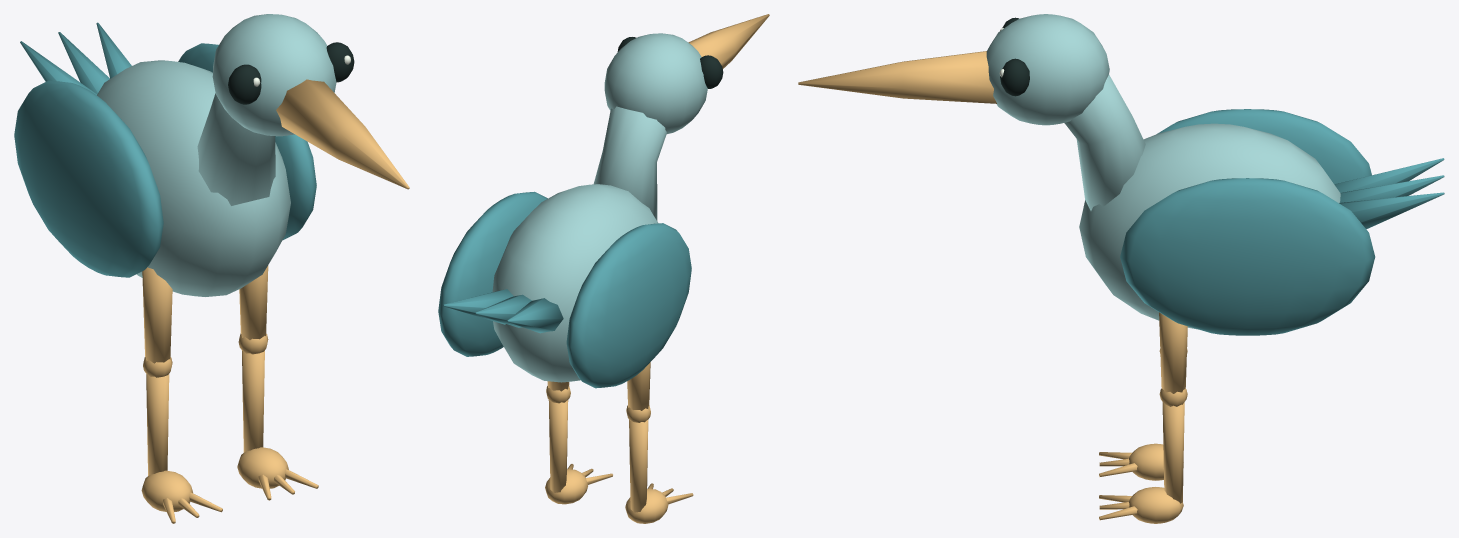
File: reedbeak.glb
3 renders of one model, left to right at view 1: azimuth 30°, elevation 25°; view 2: azimuth 150°, elevation 25°; view 3: azimuth 270°, elevation 25°, orthographic. The views are drawn at different scales.
Parts seen in each view (by area): view 1: BirdBody, FoldedWing, BirdHead, LongBill, LongNeck, FoldedWing.001, UpperLeg.004, LowerLeg.005, LowerLeg.004, UpperLeg.005, SpeciesFoot.004, SpeciesFoot.005 (+5 smaller); view 2: BirdBody, FoldedWing, BirdHead, FoldedWing.001, LongNeck, LongBill, LowerLeg.004, LowerLeg.005, TailFeather, SpeciesFoot.005, SpeciesFoot.004, TailFeather.002 (+3 smaller); view 3: FoldedWing.001, BirdBody, BirdHead, LongBill, LongNeck, FoldedWing, LowerLeg.005, UpperLeg.005, TailFeather.002, SpeciesFoot.005, TailFeather, TailFeather.001 (+2 smaller).
Boxes of the visible parts, box(x1,y1,x2,y2) form: BirdBody: box(97, 60, 290, 296); FoldedWing: box(14, 80, 163, 277); BirdHead: box(212, 14, 336, 136); LongBill: box(276, 79, 409, 189); LongNeck: box(197, 93, 275, 205); FoldedWing.001: box(178, 43, 316, 239); UpperLeg.004: box(142, 267, 172, 363); LowerLeg.005: box(242, 350, 264, 452); LowerLeg.004: box(146, 374, 169, 475); UpperLeg.005: box(239, 265, 268, 339); SpeciesFoot.004: box(141, 470, 192, 511); SpeciesFoot.005: box(237, 447, 288, 488); BirdBody: box(492, 184, 657, 382); FoldedWing: box(566, 223, 691, 388); BirdHead: box(604, 33, 707, 133); FoldedWing.001: box(438, 191, 547, 356); LongNeck: box(593, 106, 666, 220); LongBill: box(688, 14, 769, 68); LowerLeg.004: box(629, 420, 648, 512); LowerLeg.005: box(548, 400, 568, 492); TailFeather: box(507, 298, 563, 333); SpeciesFoot.005: box(545, 469, 587, 504); SpeciesFoot.004: box(625, 488, 668, 523); TailFeather.002: box(443, 289, 513, 324); FoldedWing.001: box(1120, 178, 1375, 335); BirdBody: box(1079, 123, 1340, 329); BirdHead: box(986, 14, 1109, 125); LongBill: box(798, 51, 996, 103); LongNeck: box(1064, 74, 1145, 210); FoldedWing: box(1157, 109, 1371, 184); LowerLeg.005: box(1162, 402, 1184, 503); UpperLeg.005: box(1159, 312, 1187, 393); TailFeather.002: box(1339, 192, 1444, 229); SpeciesFoot.005: box(1129, 487, 1183, 523); TailFeather: box(1334, 158, 1444, 192); TailFeather.001: box(1339, 175, 1444, 202).
Size of the model in its own units: 0.88 by 2.08 by 2.53.
